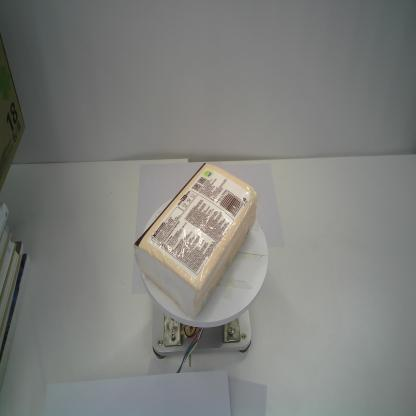Tissue: (134, 160, 257, 316)
